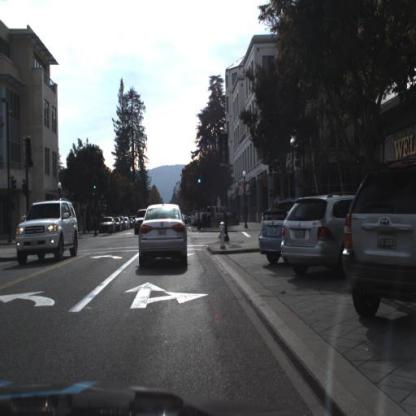car: (348, 158, 416, 324), (280, 185, 349, 284), (12, 194, 80, 270), (136, 195, 193, 274), (255, 196, 290, 269), (97, 214, 118, 237), (132, 207, 145, 239)
trafficLight-Green: (196, 166, 205, 190), (93, 180, 98, 197)
